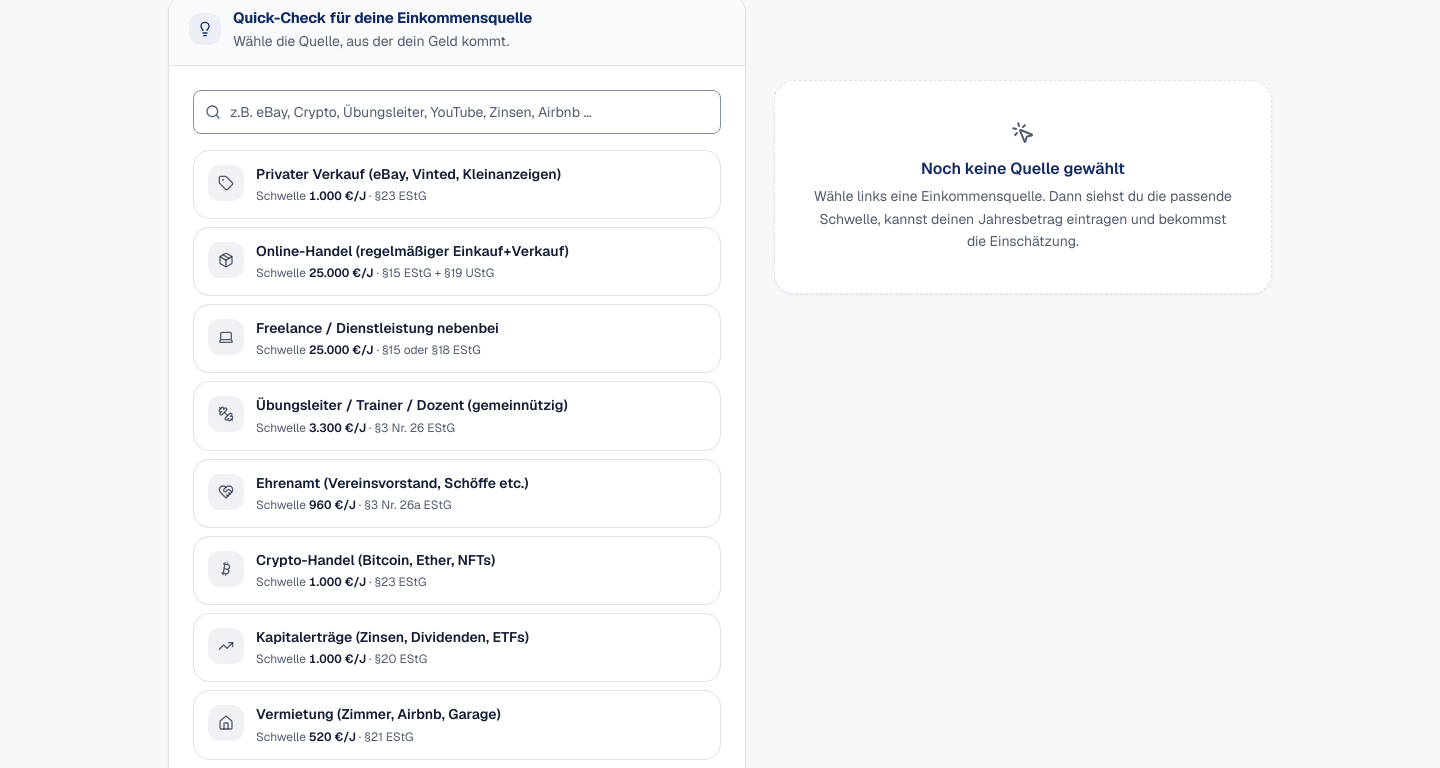
Test: SchwellenCheck — Schwelle-Verdict mit Eingabe-Betrag › Übungsleiter 2.000 € → unter Schwelle, steuerfrei
(page scrolled)
Click the text "Übungsleiter / Trainer / Dozent (gemeinnützig)" at (412, 405), box [256,396,568,414]
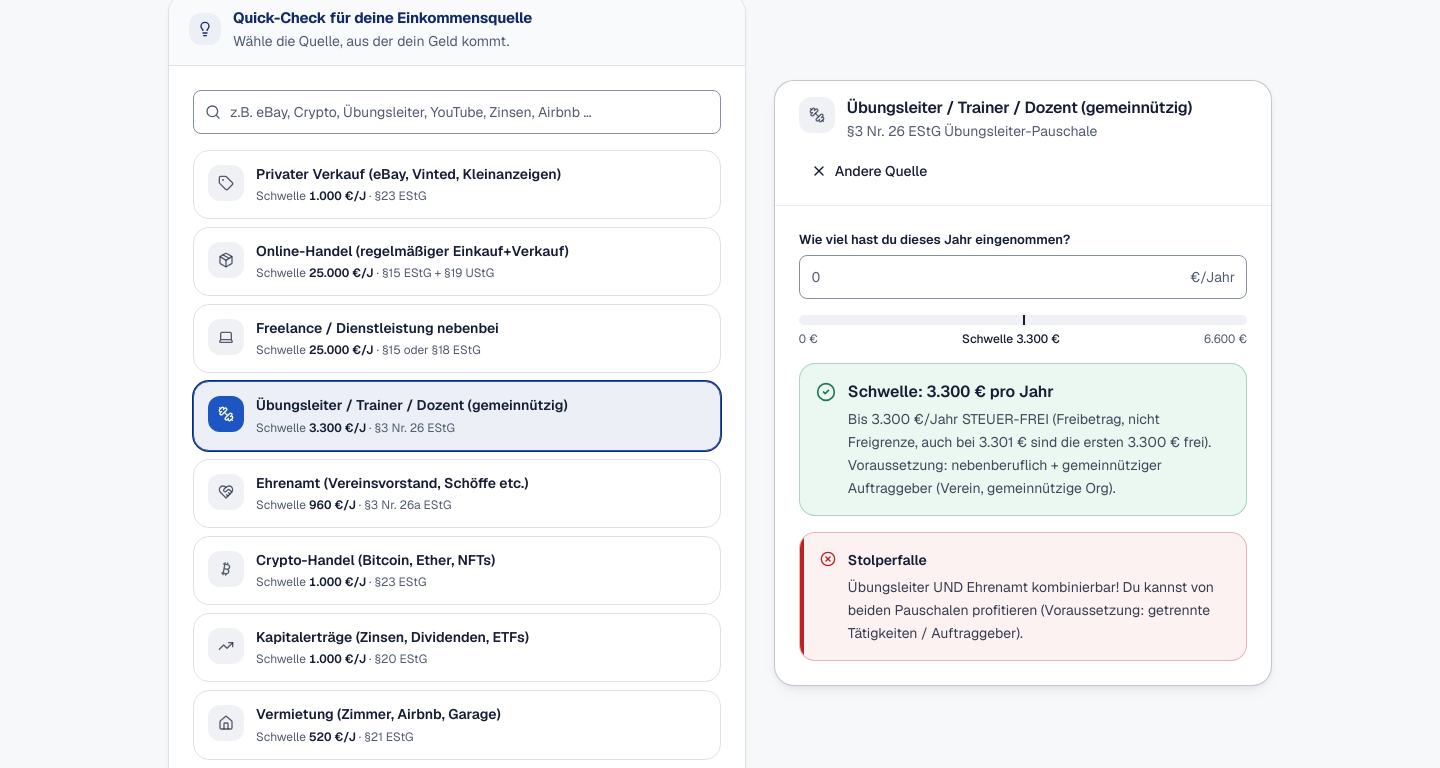
Type "2000" into the number field at (1023, 278), box [799,256,1247,300]
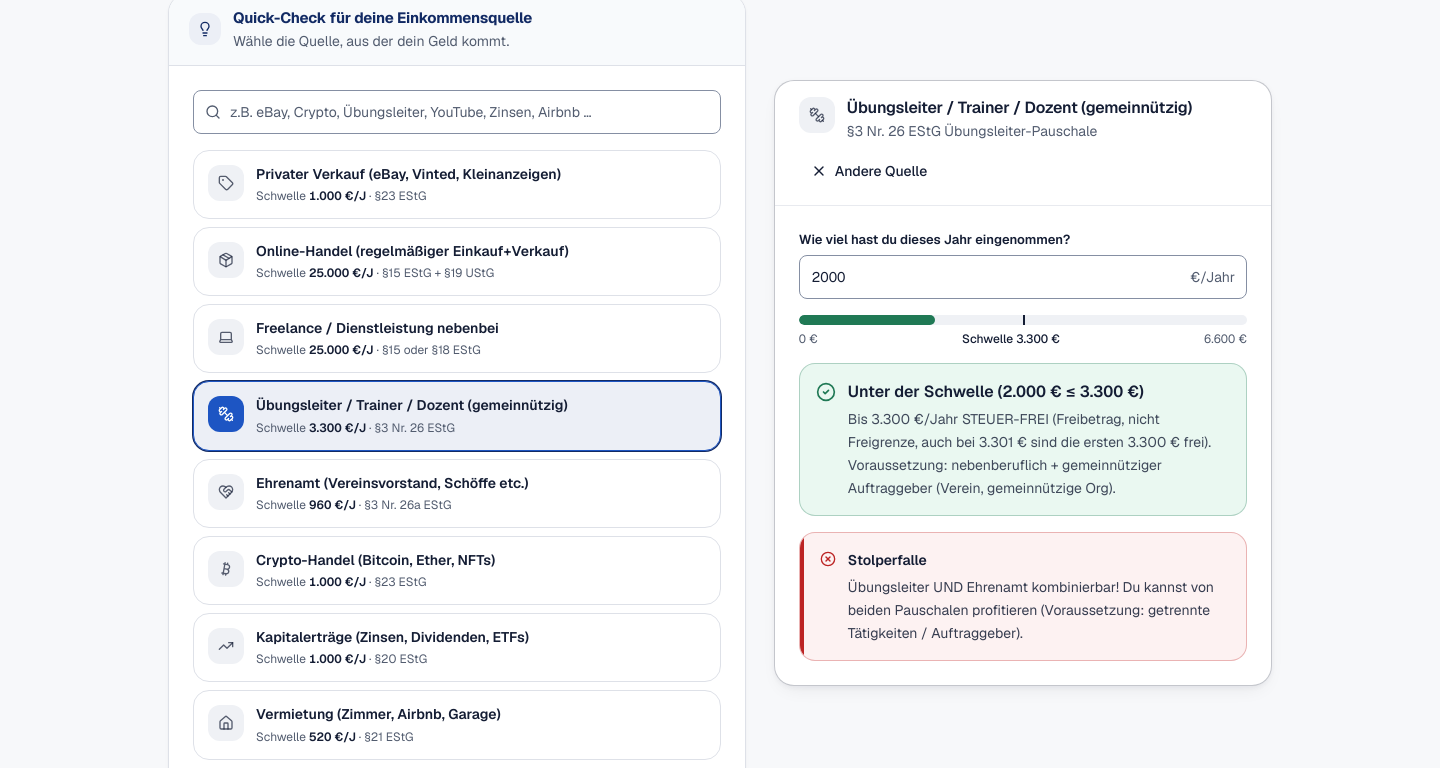
Result: the text "STEUER-FREI" is shown at [848,410,1211,497]
Result: the text "Unter der Schwelle (2.000 € ≤ 3.300 €)" is shown at [848,382,1144,402]
